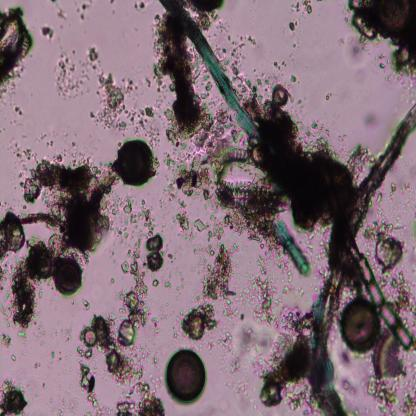Background material: (256, 110, 362, 256), (152, 11, 228, 143), (24, 153, 112, 259), (80, 293, 146, 385), (89, 48, 154, 134), (258, 334, 311, 407), (0, 260, 42, 339), (160, 146, 214, 206), (196, 239, 236, 318), (240, 254, 278, 330), (227, 31, 264, 108), (170, 211, 266, 240), (361, 214, 404, 274), (166, 347, 206, 404), (115, 198, 154, 254), (76, 358, 112, 414), (53, 49, 90, 101), (366, 376, 416, 414), (116, 383, 164, 414), (386, 39, 416, 86), (179, 304, 219, 339), (344, 1, 376, 43), (0, 210, 25, 261), (26, 238, 55, 280), (0, 377, 27, 415), (161, 248, 183, 292), (145, 311, 160, 373), (46, 316, 76, 347), (121, 257, 146, 294), (223, 326, 242, 374), (368, 183, 399, 210), (279, 305, 307, 334), (10, 138, 39, 166), (146, 233, 164, 274), (346, 36, 367, 66), (73, 1, 89, 24), (49, 0, 68, 18), (270, 57, 288, 73), (294, 0, 312, 16), (40, 24, 55, 41), (38, 132, 52, 148), (13, 102, 24, 119), (132, 0, 146, 12), (47, 349, 55, 369), (81, 296, 91, 311), (32, 357, 42, 372), (288, 18, 297, 34), (288, 72, 297, 85), (151, 278, 160, 287), (10, 352, 18, 362), (324, 92, 332, 100)
Cellulose filter fibre: (319, 104, 416, 359)
Diatom: (352, 246, 416, 353), (216, 145, 272, 202), (340, 298, 381, 352), (0, 8, 30, 79), (371, 328, 406, 380), (116, 138, 154, 184), (369, 0, 416, 37), (54, 258, 82, 294), (270, 82, 289, 109)
